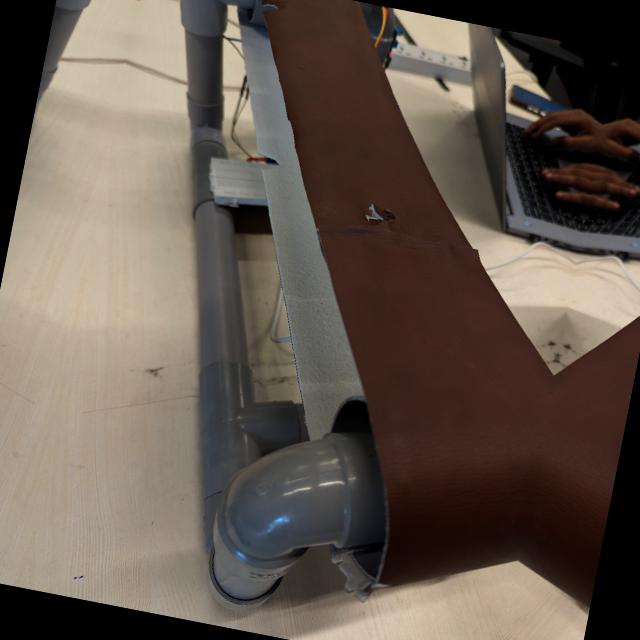joint_damage: (338, 198, 401, 244)
